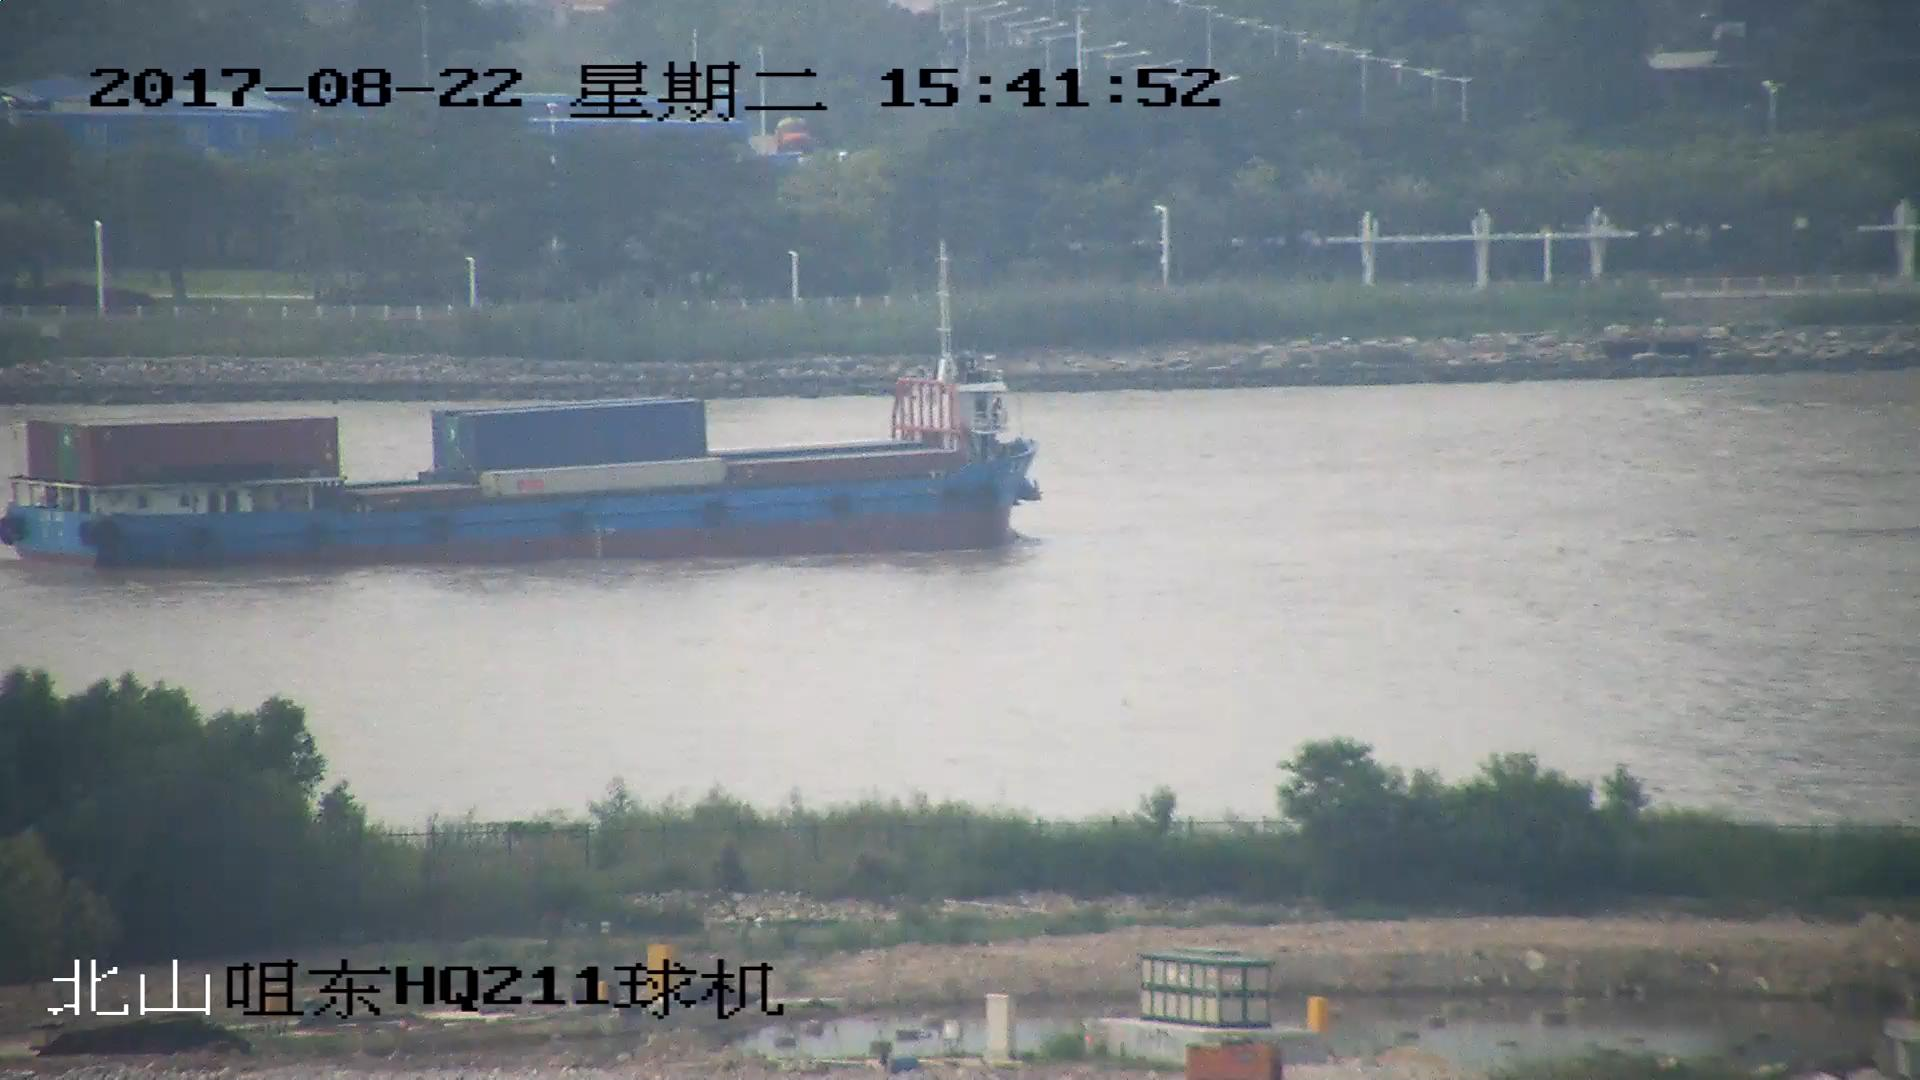container ship: (1, 257, 1041, 560)
